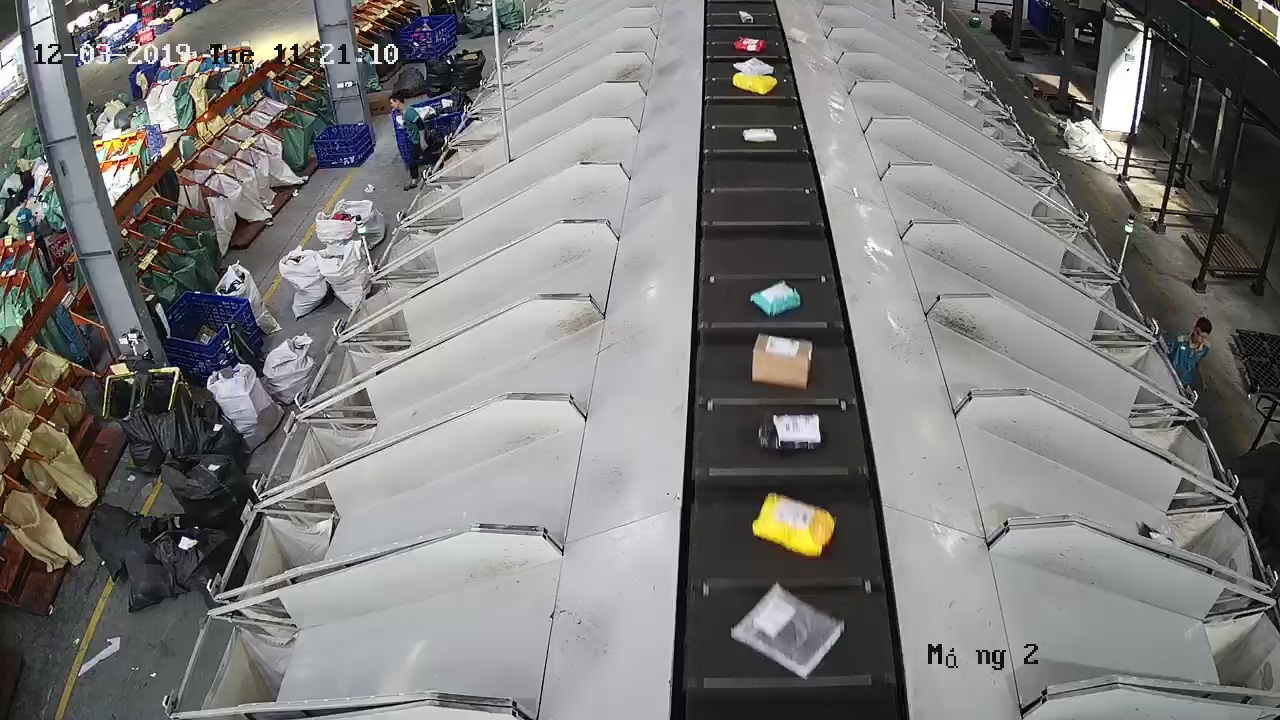parcel: (729, 582, 846, 682), (750, 490, 837, 559), (750, 331, 814, 392), (758, 412, 825, 454), (749, 278, 802, 318), (741, 127, 779, 143)
